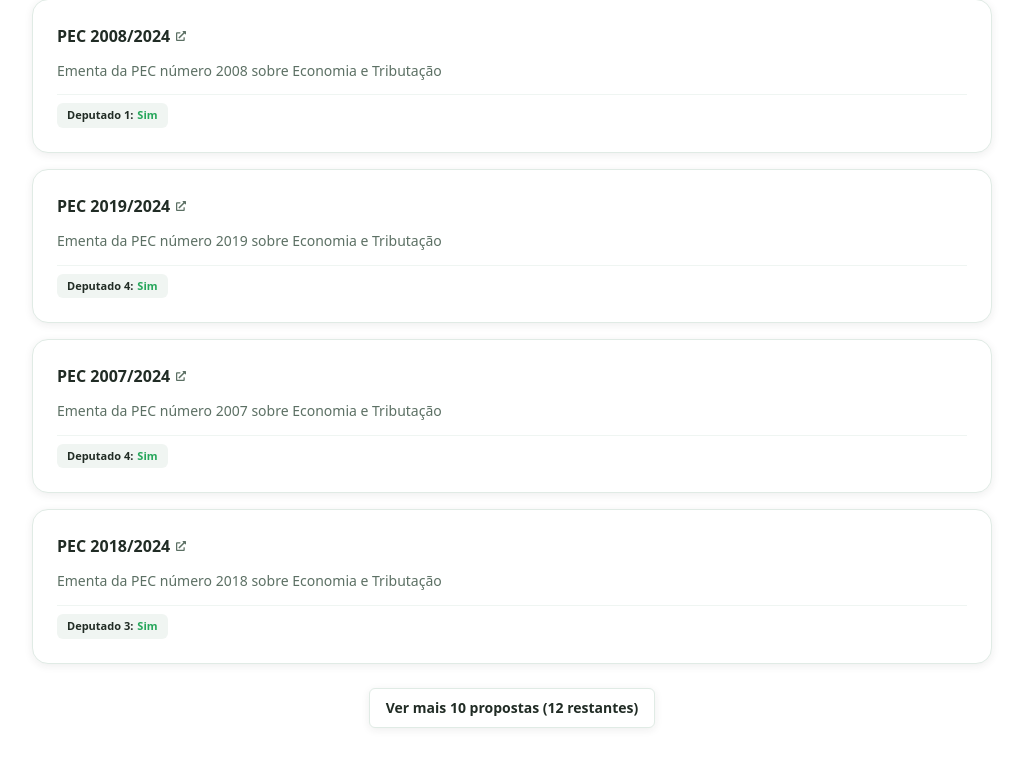
PartyDetailsClient - Bancada e Proposições › realiza paginação incremental nas propostas votadas pela bancada
The width and height of the screenshot is (1024, 768).
(page scrolled)
Click the button "Ver mais 10 propostas (12 restantes)".
click(512, 708)  # box x1=369 y1=688 x2=655 y2=728
(page scrolled)
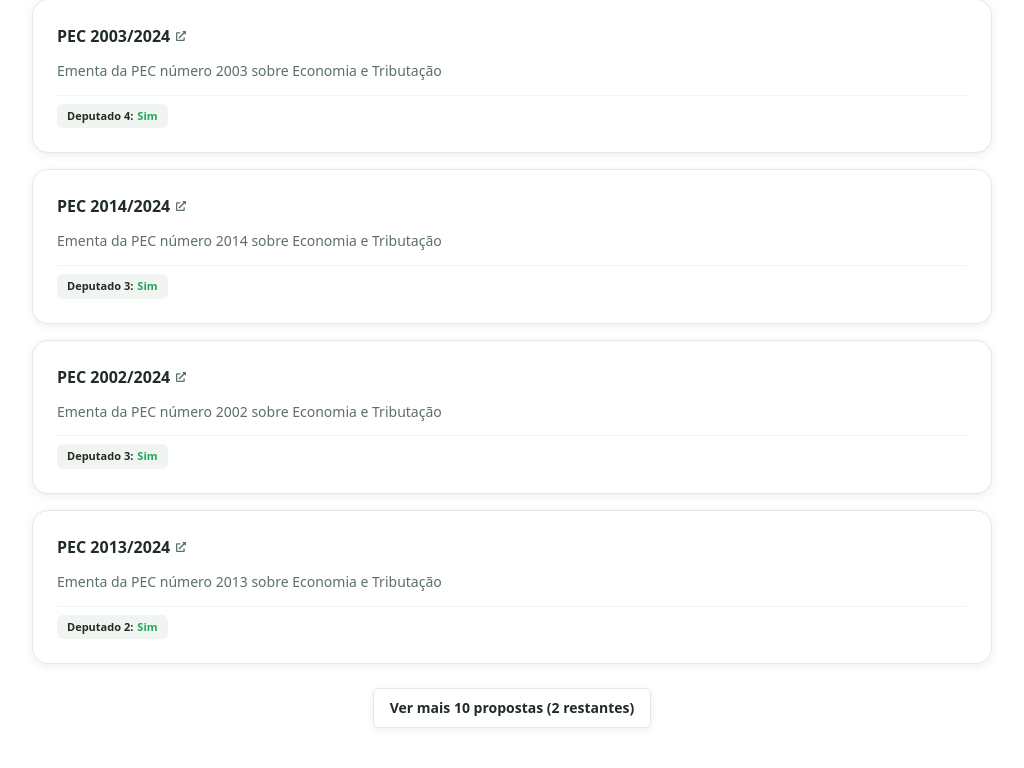
Note: Clica novamente para carregar o restante
Click the button "Ver mais 10 propostas (2 restantes)".
click(512, 708)  # box x1=373 y1=688 x2=651 y2=728
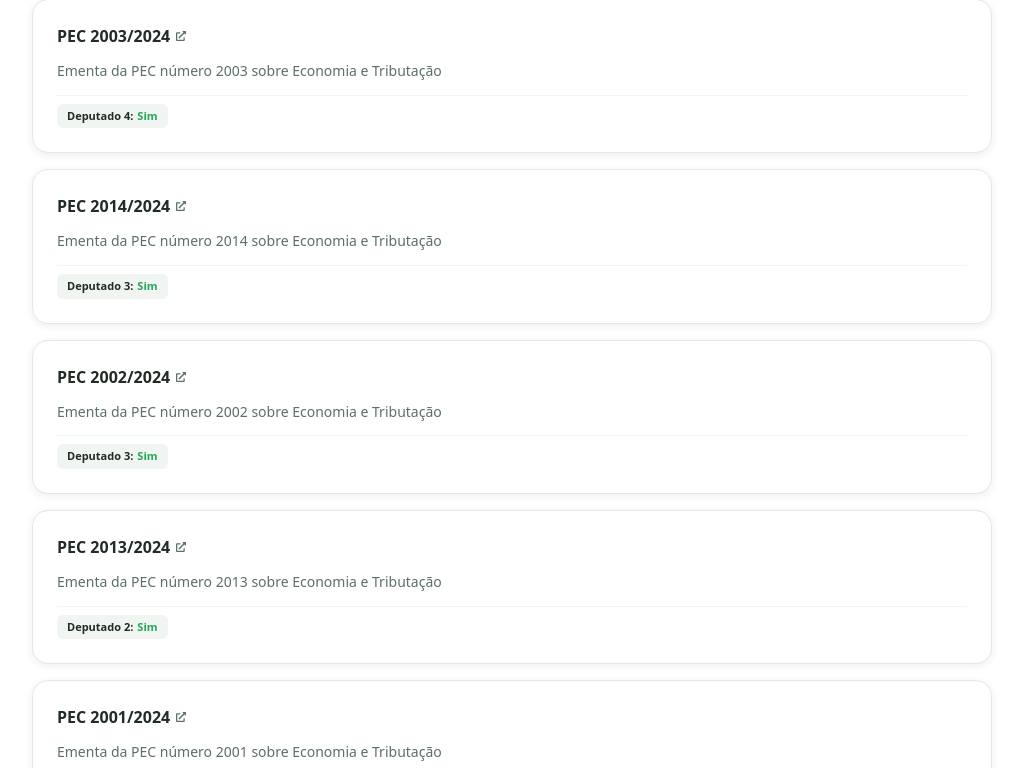
Check: the button "Ver mais 10 propostas" is gone
